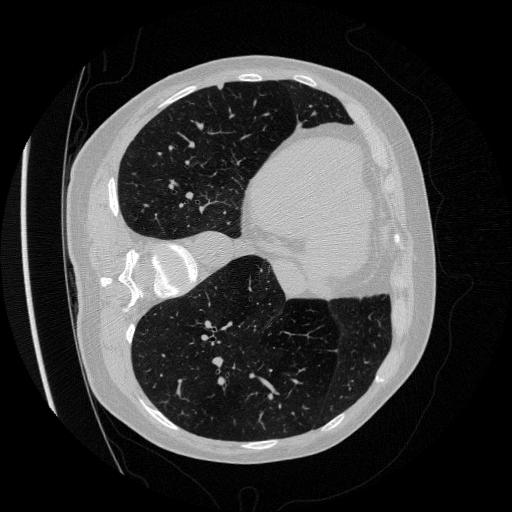nodule: (216, 83, 228, 95)
